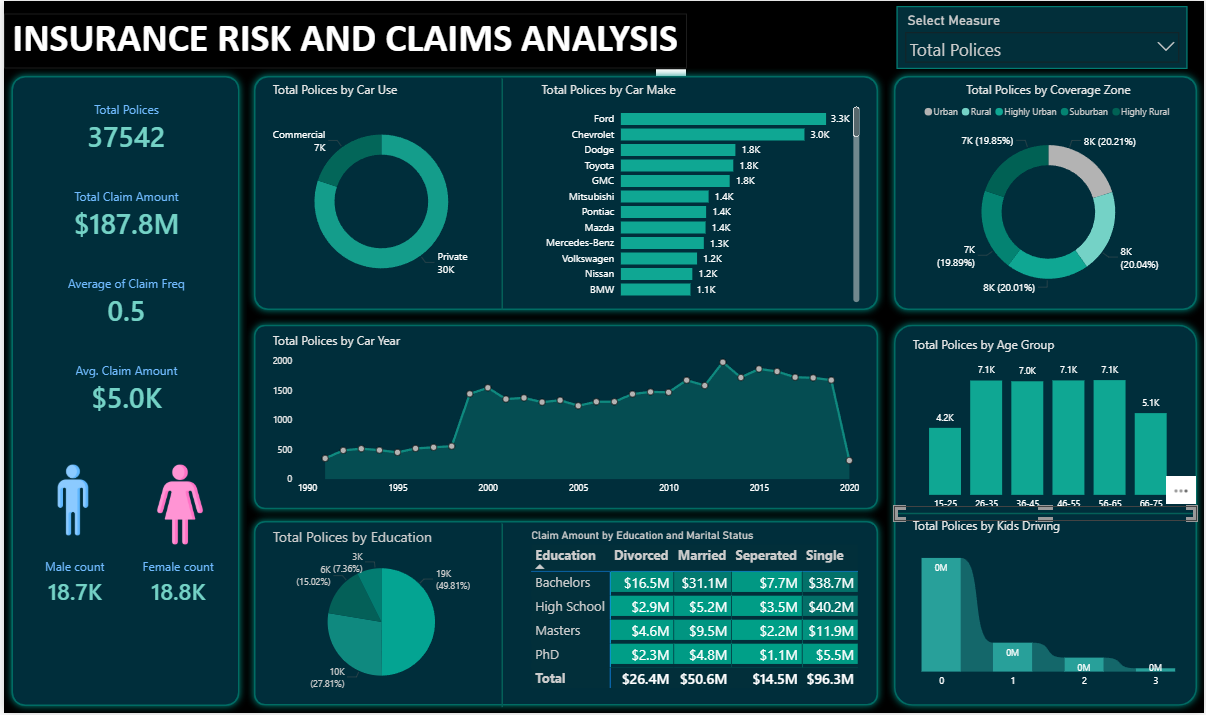

What the dashboard file says about the page in this screenshot:
{"tool":"powerbi","page":{"name":"Page 1","canvas":[1600,950],"ordinal":0},"visuals":[{"type":"textbox","box":[0,16,910,74],"z":0},{"type":"shape","box":[0,90,324,860],"z":1000},{"type":"shape","box":[324,90,852,332],"z":2000},{"type":"shape","box":[324,422,852,266],"z":3000},{"type":"shape","box":[324,684,852,266],"z":4000},{"type":"shape","box":[1176,90,424,332],"z":5000},{"type":"shape","box":[1176,422,424,528],"z":6000},{"type":"cardVisual","fields":{"Data":["insurance_data_car.Total Polices","insurance_data_car.Total Claim Amount","Avg(insurance_data_car.Claim Freq)","insurance_data_car.Avg. Claim Amount"]},"box":[28,114,270,460],"z":7000},{"type":"cardVisual","fields":{"Data":["insurance_data_car.Male count","insurance_data_car.Female count"]},"box":[28,718,270,112],"z":8000},{"type":"image","box":[40,614,104,104],"z":9000},{"type":"image","box":[176,614,116,116],"z":10000},{"type":"slicer","fields":{"Values":["Select Measure.Select Measure"]},"box":[1190,6,388,84],"z":11000},{"type":"donutChart","fields":{"Y":["insurance_data_car.Total Polices"],"Category":["insurance_data_car.Car Use"]},"box":[354,106,300,300],"z":12000},{"type":"clusteredBarChart","fields":{"Y":["insurance_data_car.Total Polices"],"Category":["insurance_data_car.Car Make"]},"box":[712,106,434,300],"z":13000},{"type":"donutChart","fields":{"Y":["insurance_data_car.Total Polices"],"Category":["insurance_data_car.Coverage Zone"]},"box":[1206,106,372,300],"z":14000},{"type":"clusteredColumnChart","fields":{"Y":["insurance_data_car.Total Polices"],"Category":["insurance_data_car.Age Group"]},"box":[1206,446,372,242],"z":15000},{"type":"ribbonChart","fields":{"Y":["insurance_data_car.Total Polices"],"Category":["insurance_data_car.Kids Driving"]},"box":[1206,688,372,236],"z":16000},{"type":"areaChart","fields":{"Y":["insurance_data_car.Total Polices"],"Category":["insurance_data_car.Car Year"]},"box":[354,442,792,226],"z":17000},{"type":"pieChart","fields":{"Y":["insurance_data_car.Total Polices"],"Category":["insurance_data_car.Education"]},"box":[354,702,300,228],"z":18000},{"type":"pivotTable","title":"Claim Amount by Education and Marital Status","fields":{"Rows":["insurance_data_car.Education"],"Columns":["insurance_data_car.Marital Status"],"Values":["insurance_data_car.Total Claim Amount"]},"box":[698,704,453,224],"z":19000},{"type":"shape","box":[654,104,22,308],"z":20000},{"type":"shape","box":[654,696,22,245],"z":21000},{"type":"shape","box":[1186,674,404,20],"z":22000}]}

Visuals, with their boxes in screenshot pixels (x1, y1, x2, y2), scaled from the page's 1600x950 canvas onto the 1206x715 screenshot:
textbox: (0, 12, 686, 68)
shape: (0, 68, 244, 714)
shape: (244, 68, 886, 318)
shape: (244, 318, 886, 518)
shape: (244, 515, 886, 714)
shape: (886, 68, 1205, 318)
shape: (886, 318, 1205, 714)
cardVisual - insurance_data_car.Total Polices x insurance_data_car.Total Claim Amount: (21, 86, 225, 432)
cardVisual - insurance_data_car.Male count x insurance_data_car.Female count: (21, 540, 225, 625)
image: (30, 462, 109, 540)
image: (133, 462, 220, 549)
slicer - Select Measure.Select Measure: (897, 5, 1189, 68)
donutChart - insurance_data_car.Total Polices x insurance_data_car.Car Use: (267, 80, 493, 306)
clusteredBarChart - insurance_data_car.Total Polices x insurance_data_car.Car Make: (537, 80, 864, 306)
donutChart - insurance_data_car.Total Polices x insurance_data_car.Coverage Zone: (909, 80, 1189, 306)
clusteredColumnChart - insurance_data_car.Total Polices x insurance_data_car.Age Group: (909, 336, 1189, 518)
ribbonChart - insurance_data_car.Total Polices x insurance_data_car.Kids Driving: (909, 518, 1189, 695)
areaChart - insurance_data_car.Total Polices x insurance_data_car.Car Year: (267, 333, 864, 503)
pieChart - insurance_data_car.Total Polices x insurance_data_car.Education: (267, 528, 493, 700)
"Claim Amount by Education and Marital Status" pivotTable: (526, 530, 868, 698)
shape: (493, 78, 510, 310)
shape: (493, 524, 510, 708)
shape: (894, 507, 1198, 522)
